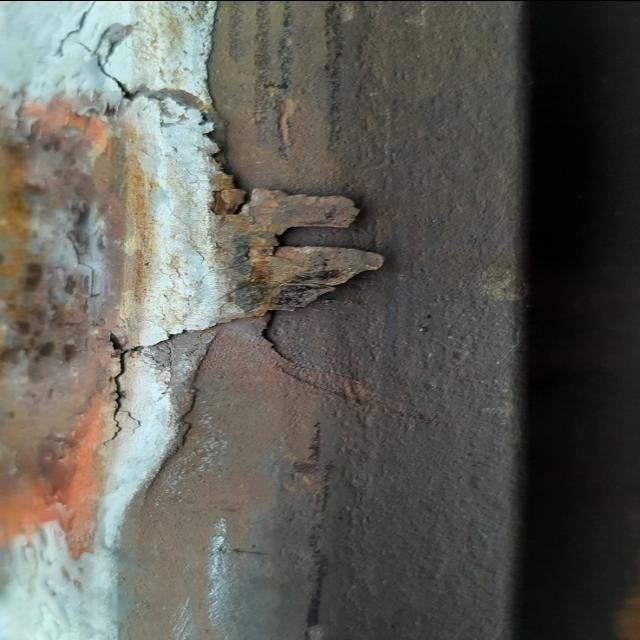broken_rail_medium: (75, 41, 391, 509), (51, 1, 99, 57)
